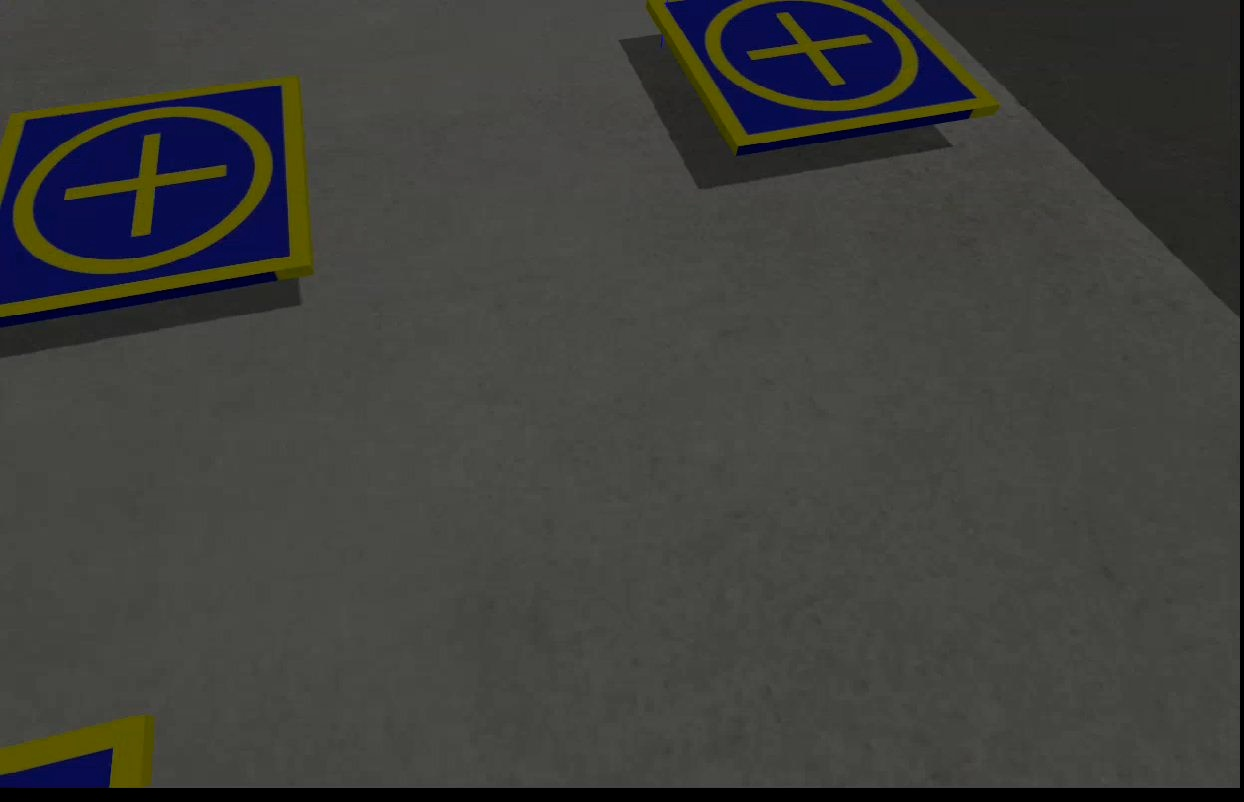small_base: (0, 79, 311, 326), (647, 1, 1003, 161)
